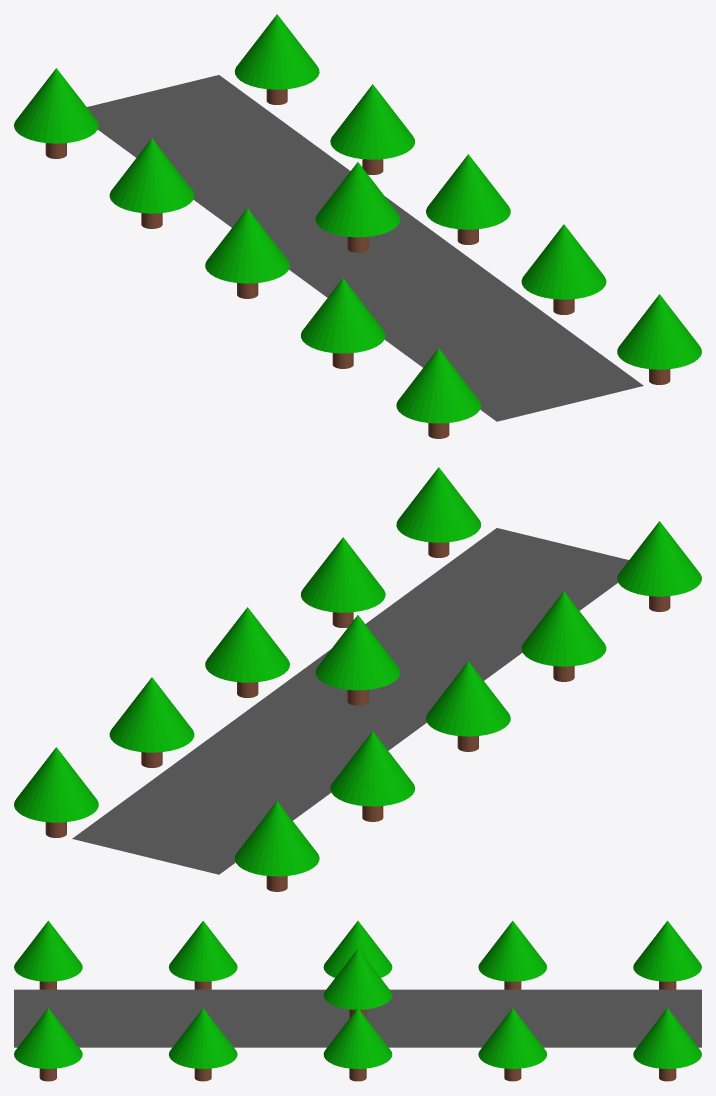
The model's file is tree_road.glb.
The picture shows the model from 3 angles, top to bottom: view 1: azimuth 30°, elevation 25°; view 2: azimuth 150°, elevation 25°; view 3: azimuth 270°, elevation 25°; orthographic projection. The views are drawn at different scales.
Visible parts, largest first — view 1: Road, Tree, Tree.004, Tree.005, Tree.009, Tree.001, Tree.002, Tree.007, Tree.010, Tree.006, Tree.003, Tree.008; view 2: Road, Tree, Tree.005, Tree.008, Tree.001, Tree.002, Tree.003, Tree.009, Tree.010, Tree.006, Tree.007, Tree.004; view 3: Road, Tree.002, Tree.010, Tree.006, Tree.004, Tree.008, Tree.001, Tree.009, Tree.003, Tree.007, Tree, Tree.005.
Boxes of the visible parts, <box> form: Road: <box>87,75,643,421</box>; Tree: <box>315,162,400,252</box>; Tree.004: <box>521,224,606,314</box>; Tree.005: <box>205,208,289,298</box>; Tree.009: <box>14,68,98,158</box>; Tree.001: <box>396,348,481,438</box>; Tree.002: <box>617,294,701,384</box>; Tree.007: <box>109,138,194,228</box>; Tree.010: <box>235,14,319,104</box>; Tree.006: <box>426,154,510,244</box>; Tree.003: <box>301,278,385,368</box>; Tree.008: <box>330,84,414,174</box>; Road: <box>72,528,628,874</box>; Tree: <box>315,615,400,705</box>; Tree.005: <box>426,661,510,751</box>; Tree.008: <box>109,677,194,767</box>; Tree.001: <box>617,521,701,611</box>; Tree.002: <box>396,467,480,557</box>; Tree.003: <box>521,591,606,681</box>; Tree.009: <box>234,801,319,891</box>; Tree.010: <box>14,747,98,837</box>; Tree.006: <box>205,607,289,697</box>; Tree.007: <box>330,731,414,821</box>; Tree.004: <box>301,537,385,627</box>; Road: <box>14,989,701,1047</box>; Tree.002: <box>14,1008,82,1081</box>; Tree.010: <box>633,1008,701,1081</box>; Tree.006: <box>323,1008,392,1081</box>; Tree.004: <box>169,1008,237,1081</box>; Tree.008: <box>478,1008,546,1081</box>; Tree.001: <box>14,920,82,989</box>; Tree.009: <box>633,920,701,989</box>; Tree.003: <box>169,921,237,989</box>; Tree.007: <box>478,921,546,989</box>; Tree: <box>323,949,392,1018</box>; Tree.005: <box>323,921,392,977</box>.
Bounding box in the file's own units: 16 × 5.5 × 40.
